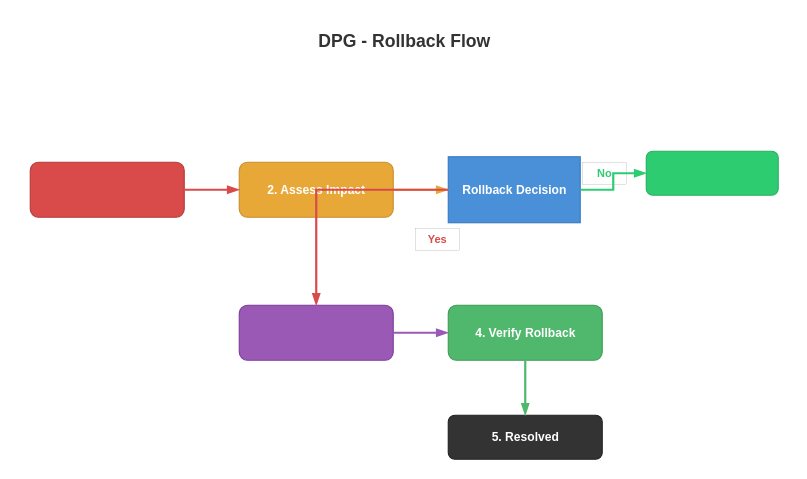
Image size: 807x479. Some labels were removed from this diagram. Here are the shapes that lost their labels. From the top down, the box of each, then its label:
(29, 161, 184, 217): 1. Detect Issue
(645, 150, 778, 195): No Rollback Needed
(238, 304, 393, 360): 3. Execute Rollback
